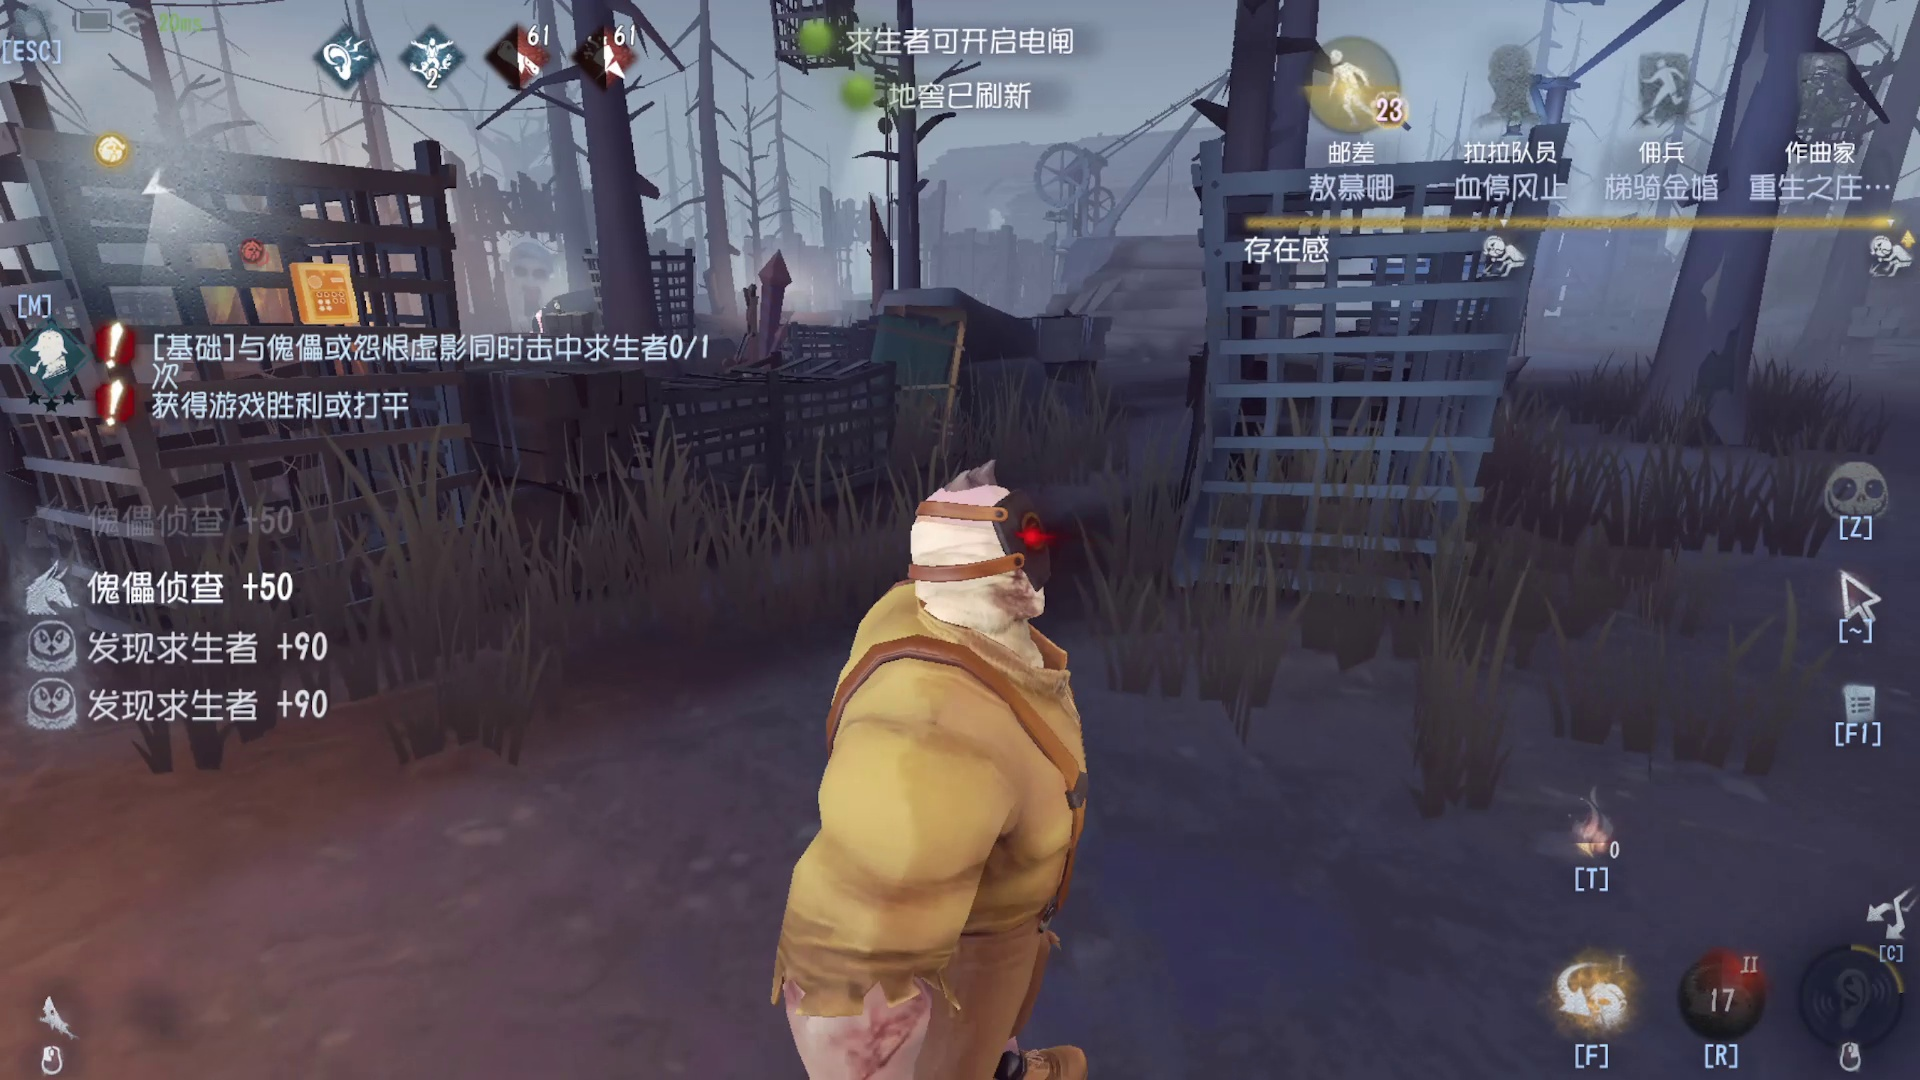木板: (852, 284, 975, 491)
狂欢之椅: (717, 253, 802, 378)
设置: (1, 1, 76, 76)
